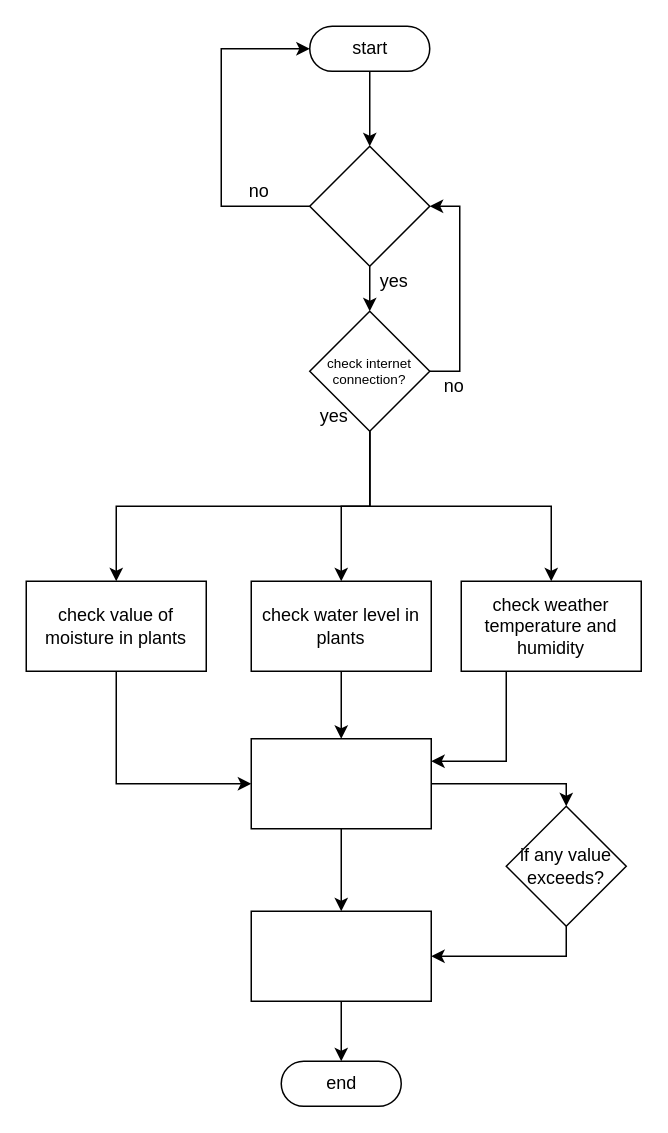
Some shapes in this 668 by 1133 pixel diagram are drawn without their labels. Each missing label, with the centre of its shape:
"initialize system" goes at pixel 369 205.
"send alert notification to user" goes at pixel 340 955.
"update records in database" goes at pixel 340 783.
